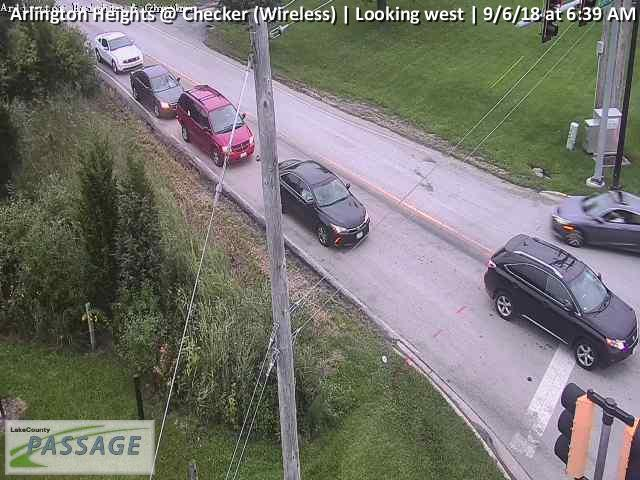SUV: (176, 84, 255, 166)
Sedan: (482, 232, 640, 371), (275, 158, 370, 250), (548, 191, 640, 250), (129, 64, 182, 119), (94, 32, 143, 74)
